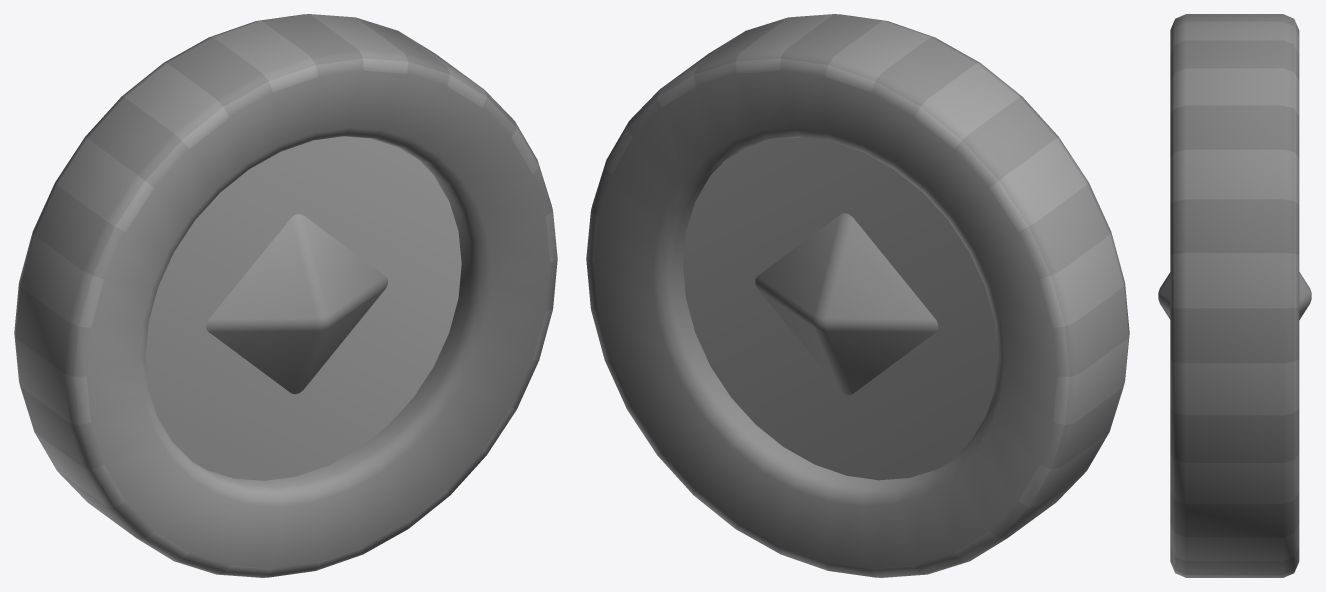
Rendered from Coin_V1_0.fbx.
3 renders of one model, left to right at view 1: azimuth 30°, elevation 25°; view 2: azimuth 150°, elevation 25°; view 3: azimuth 270°, elevation 25°, orthographic.
Parts seen in each view (by area): view 1: Coin_V1_0; view 2: Coin_V1_0; view 3: Coin_V1_0.
Boxes of the visible parts, bbox=[...] form: Coin_V1_0: bbox=[14, 14, 557, 577]; Coin_V1_0: bbox=[586, 14, 1129, 577]; Coin_V1_0: bbox=[1158, 14, 1311, 577].
Bounding box in the file's own units: 0.4351 × 0.4351 × 0.1181.
